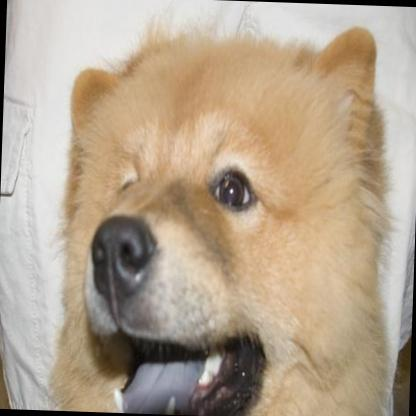chow: (48, 13, 404, 416)
